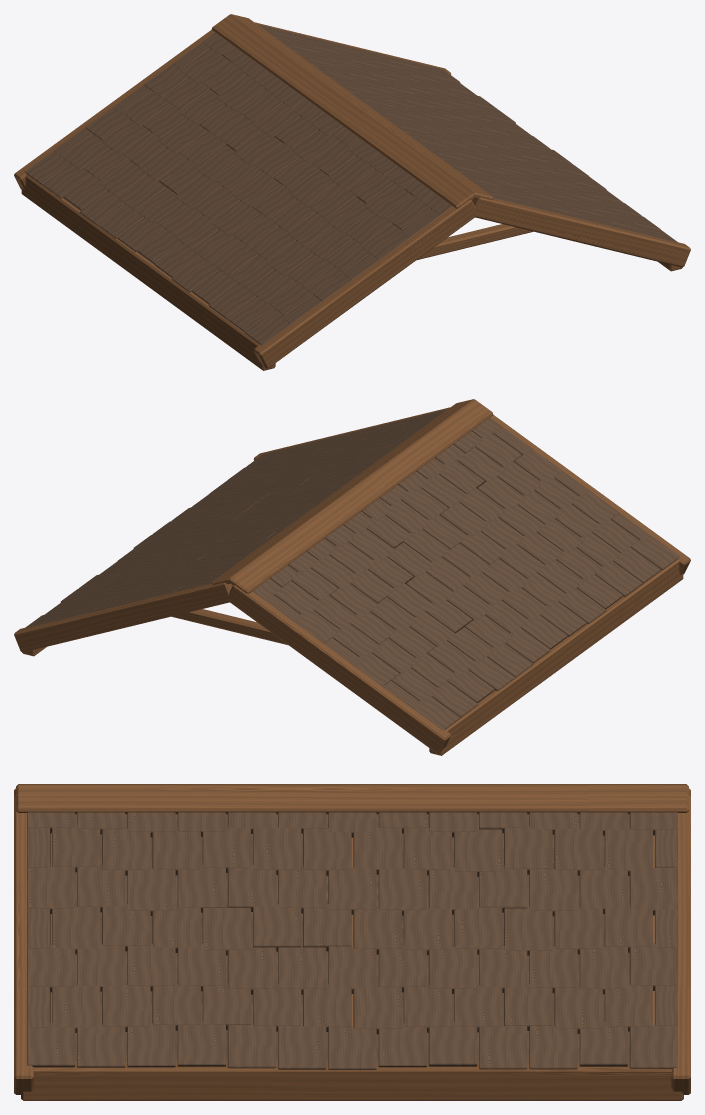
File: Roof.fbx
3 renders of one model, top to bottom at view 1: azimuth 30°, elevation 25°; view 2: azimuth 150°, elevation 25°; view 3: azimuth 270°, elevation 25°, orthographic. The views are drawn at different scales.
Parts seen in each view (by area): view 1: Roof_LOD0; view 2: Roof_LOD0; view 3: Roof_LOD0.
Boxes of the visible parts, x1,y1,x2,y2 form: Roof_LOD0: [14, 14, 690, 370]; Roof_LOD0: [14, 399, 690, 755]; Roof_LOD0: [14, 784, 690, 1100].
Size of what is drawn, in the model's own units: 345 by 98.31 by 342.
2 materials, 2 textured.
